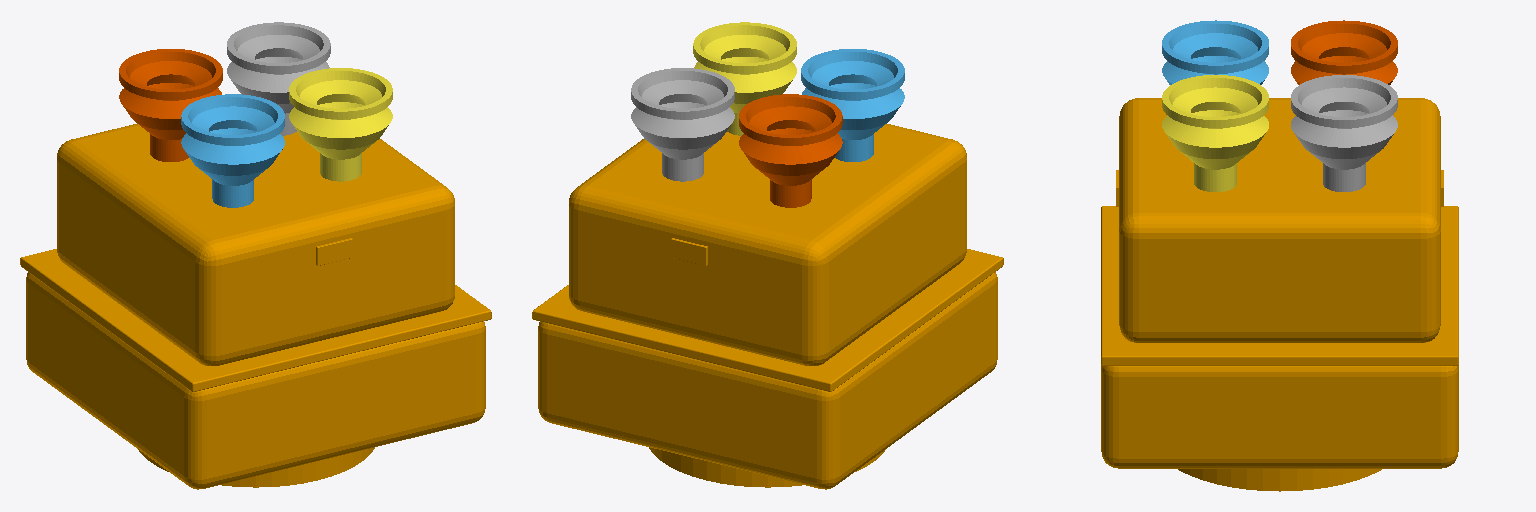
robot.urdf — onrobot_vgc10_102844:
<?xml version="1.0"?>
<robot name="onrobot_vgc10_102844">
<link name="mount"><visual ><geometry ><mesh filename="../meshes/mount.obj"/></geometry></visual><collision ><origin xyz="0 0 0.006" rpy="0 0 0"/><geometry ><cylinder radius="0.0355" length="0.012"/></geometry></collision><collision ><origin xyz="0 0 0.0295" rpy="0 0 0"/><geometry ><box size="0.1 0.1 0.035"/></geometry></collision><collision ><origin xyz="0 0 0.067" rpy="0 0 0"/><geometry ><box size="0.086 0.09 0.04"/></geometry></collision></link>
<link name="cup_a1"><visual ><geometry ><mesh filename="../meshes/cup_a1.obj"/></geometry></visual><collision ><origin xyz="0 0 0.005" rpy="0 0 0"/><geometry ><cylinder radius="0.006" length="0.01"/></geometry></collision><collision ><origin xyz="0 0 0.01675" rpy="0 0 0"/><geometry ><cylinder radius="0.015" length="0.0195"/></geometry></collision></link>
<link name="cup_a1_contact"></link>
<link name="cup_a2"><visual ><geometry ><mesh filename="../meshes/cup_a2.obj"/></geometry></visual><collision ><origin xyz="0 0 0.005" rpy="0 0 0"/><geometry ><cylinder radius="0.006" length="0.01"/></geometry></collision><collision ><origin xyz="0 0 0.01675" rpy="0 0 0"/><geometry ><cylinder radius="0.015" length="0.0195"/></geometry></collision></link>
<link name="cup_a2_contact"></link>
<link name="cup_b1"><visual ><geometry ><mesh filename="../meshes/cup_b1.obj"/></geometry></visual><collision ><origin xyz="0 0 0.005" rpy="0 0 0"/><geometry ><cylinder radius="0.006" length="0.01"/></geometry></collision><collision ><origin xyz="0 0 0.01675" rpy="0 0 0"/><geometry ><cylinder radius="0.015" length="0.0195"/></geometry></collision></link>
<link name="cup_b1_contact"></link>
<link name="cup_b2"><visual ><geometry ><mesh filename="../meshes/cup_b2.obj"/></geometry></visual><collision ><origin xyz="0 0 0.005" rpy="0 0 0"/><geometry ><cylinder radius="0.006" length="0.01"/></geometry></collision><collision ><origin xyz="0 0 0.01675" rpy="0 0 0"/><geometry ><cylinder radius="0.015" length="0.0195"/></geometry></collision></link>
<link name="cup_b2_contact"></link>
<link name="channel_a"></link>
<link name="channel_b"></link>
<link name="tcp"></link>
<joint name="cup_a1_joint" type="fixed"><parent link="mount"/><child link="cup_a1"/><origin xyz="-0.018 -0.018 0.087" rpy="0 0 0"/></joint>
<joint name="cup_a1_contact_joint" type="fixed"><parent link="cup_a1"/><child link="cup_a1_contact"/><origin xyz="0 0 0.0265" rpy="0 0 0"/></joint>
<joint name="cup_a2_joint" type="fixed"><parent link="mount"/><child link="cup_a2"/><origin xyz="0.018 -0.018 0.087" rpy="0 0 0"/></joint>
<joint name="cup_a2_contact_joint" type="fixed"><parent link="cup_a2"/><child link="cup_a2_contact"/><origin xyz="0 0 0.0265" rpy="0 0 0"/></joint>
<joint name="cup_b1_joint" type="fixed"><parent link="mount"/><child link="cup_b1"/><origin xyz="-0.018 0.018 0.087" rpy="0 0 0"/></joint>
<joint name="cup_b1_contact_joint" type="fixed"><parent link="cup_b1"/><child link="cup_b1_contact"/><origin xyz="0 0 0.0265" rpy="0 0 0"/></joint>
<joint name="cup_b2_joint" type="fixed"><parent link="mount"/><child link="cup_b2"/><origin xyz="0.018 0.018 0.087" rpy="0 0 0"/></joint>
<joint name="cup_b2_contact_joint" type="fixed"><parent link="cup_b2"/><child link="cup_b2_contact"/><origin xyz="0 0 0.0265" rpy="0 0 0"/></joint>
<joint name="channel_a_joint" type="fixed"><parent link="mount"/><child link="channel_a"/><origin xyz="0 -0.018 0.1135" rpy="0 0 0"/></joint>
<joint name="channel_b_joint" type="fixed"><parent link="mount"/><child link="channel_b"/><origin xyz="0 0.018 0.1135" rpy="0 0 0"/></joint>
<joint name="tcp_joint" type="fixed"><parent link="mount"/><child link="tcp"/><origin xyz="0 0 0.1135" rpy="0 0 0"/></joint>
</robot>

--- What the picture shows (computed from the rendered views, not written in the file) ---
The picture shows the robot from 3 angles, left to right: view 1: azimuth 30°, elevation 25°; view 2: azimuth 150°, elevation 25°; view 3: azimuth 270°, elevation 25°; orthographic projection.
Robot: onrobot_vgc10_102844 — 12 links, 11 joints (11 fixed); root link mount; default pose: all joints at 0.
Links seen in each view (by area): view 1: mount, cup_a1, cup_a2, cup_b1, cup_b2; view 2: mount, cup_b1, cup_b2, cup_a1, cup_a2; view 3: mount, cup_a2, cup_b2, cup_a1, cup_b1.
Boxes of the visible links, x1=… form: mount: x1=20, y1=124, x2=491, y2=489; cup_a1: x1=181, y1=94, x2=284, y2=207; cup_a2: x1=289, y1=68, x2=392, y2=181; cup_b1: x1=119, y1=49, x2=222, y2=161; cup_b2: x1=227, y1=22, x2=330, y2=135; mount: x1=532, y1=124, x2=1003, y2=489; cup_b1: x1=739, y1=94, x2=842, y2=207; cup_b2: x1=631, y1=68, x2=734, y2=181; cup_a1: x1=801, y1=49, x2=904, y2=161; cup_a2: x1=693, y1=22, x2=796, y2=135; mount: x1=1101, y1=98, x2=1458, y2=491; cup_a2: x1=1162, y1=75, x2=1268, y2=191; cup_b2: x1=1291, y1=75, x2=1397, y2=191; cup_a1: x1=1162, y1=20, x2=1268, y2=84; cup_b1: x1=1291, y1=20, x2=1397, y2=84.
Size in the robot's own frame: 0.1 by 0.1 by 0.1135 metres.
5 mesh visuals loaded from 5 distinct referenced files (5 OBJ).
